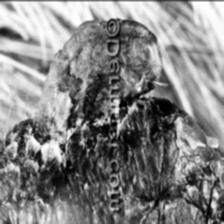Potentially Malignant Skin Tumors: (36, 0, 165, 187)
